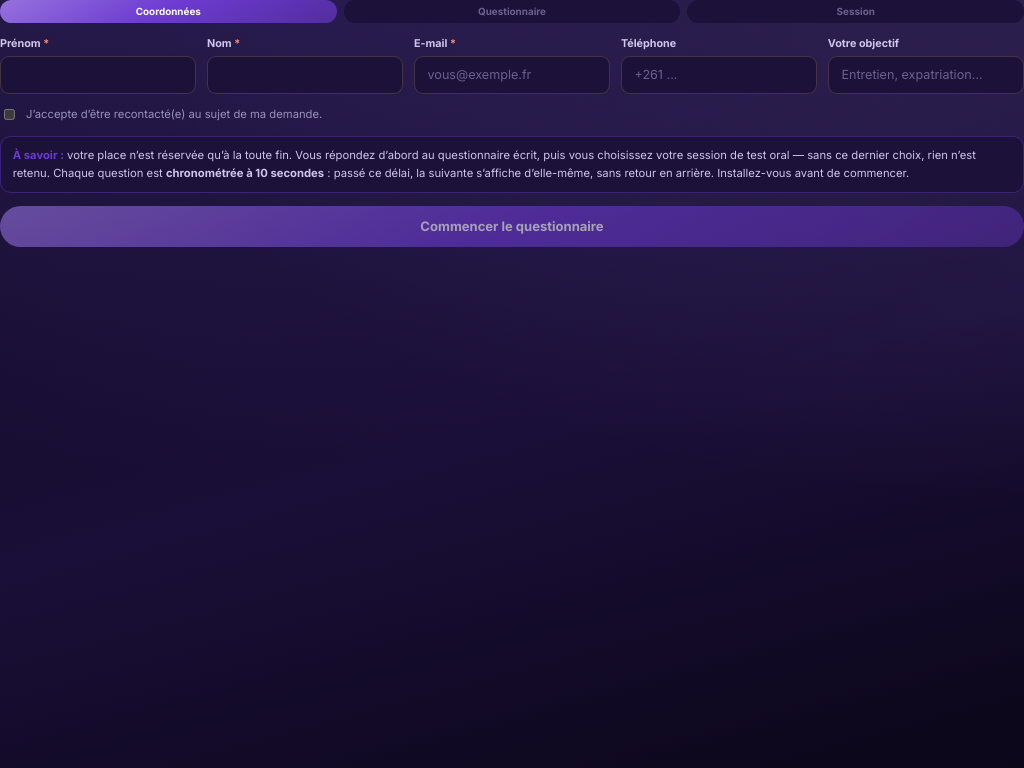
Test de positionnement — questionnaire introuvable › démarre normalement dès qu’il y a des énoncés
Check: the text "Coordonnées" is shown, box [0,0,336,23]
Type "Tiana" into the field labelled "Prénom *". click: x=98, y=75
box: [0,56,196,94]
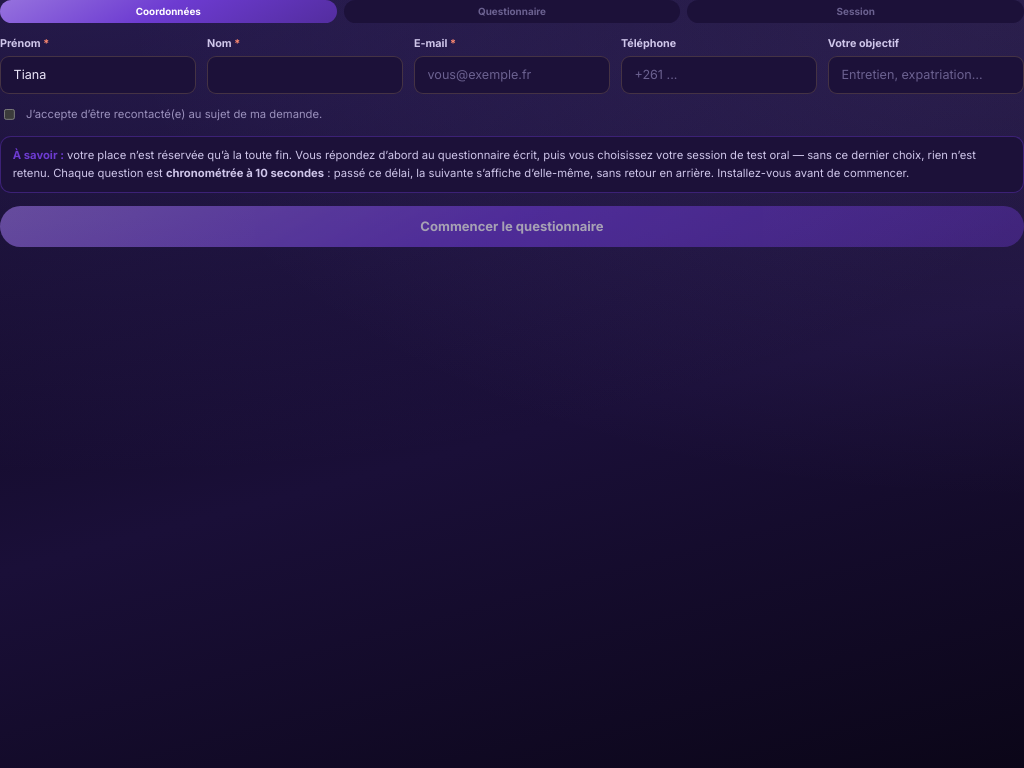
Type "Rakoto" into the field labelled "Nom *". click: x=305, y=75
box: [207,56,403,94]
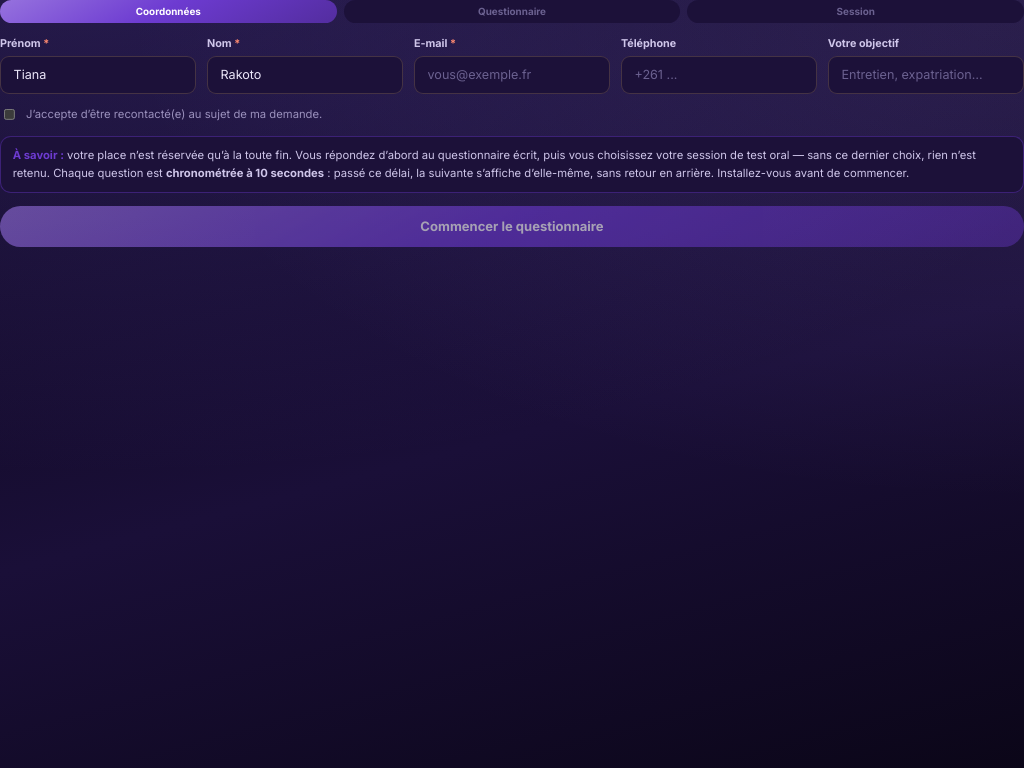
Type "tiana@exemple.mg" into the field labelled "E-mail *". click: x=512, y=75
box: [414,56,610,94]
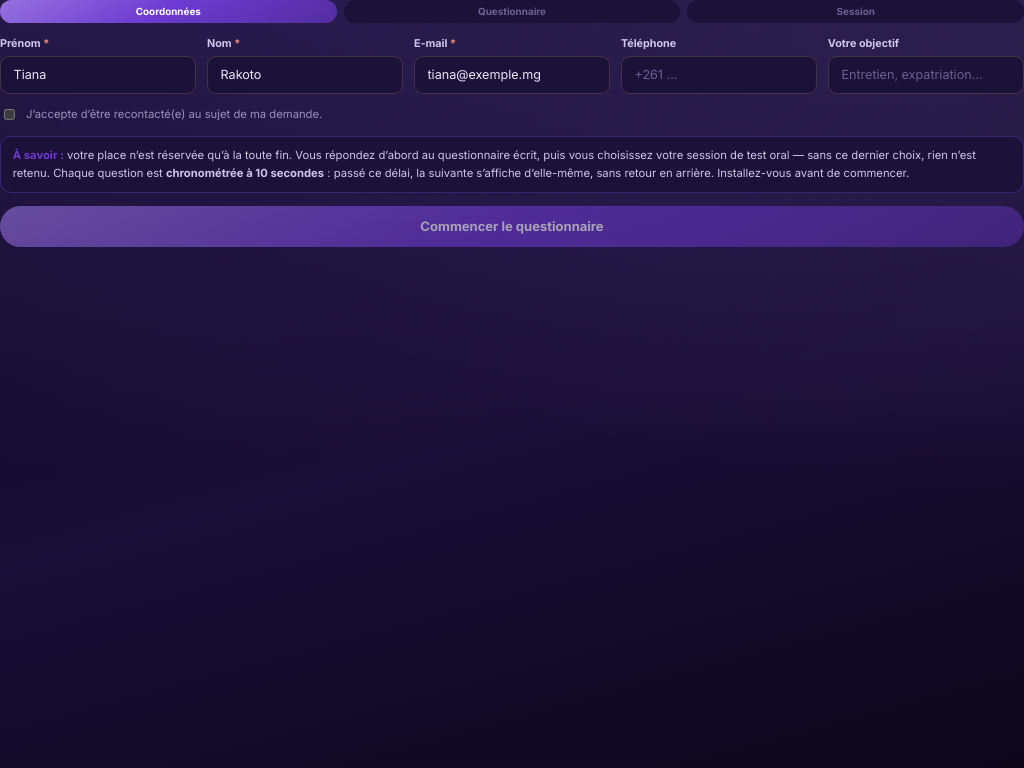
Click the checkbox. click: x=9, y=114
box: [4,108,15,120]
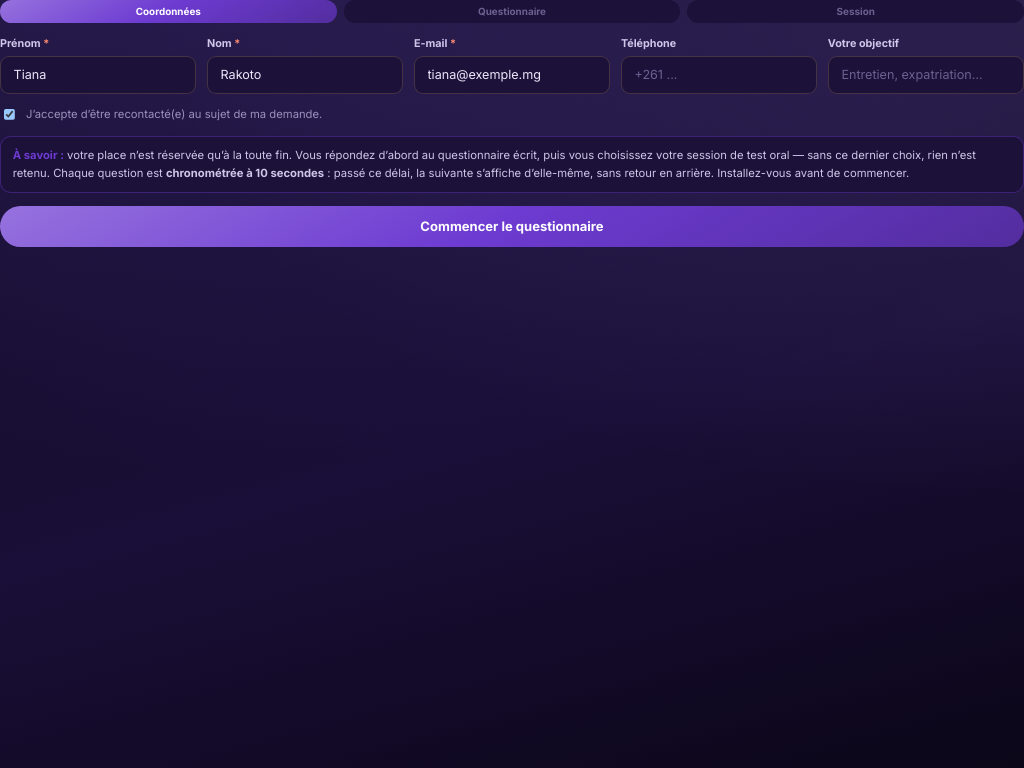
Click the button "Commencer le questionnaire". click: x=512, y=226
box: [0,206,1023,247]
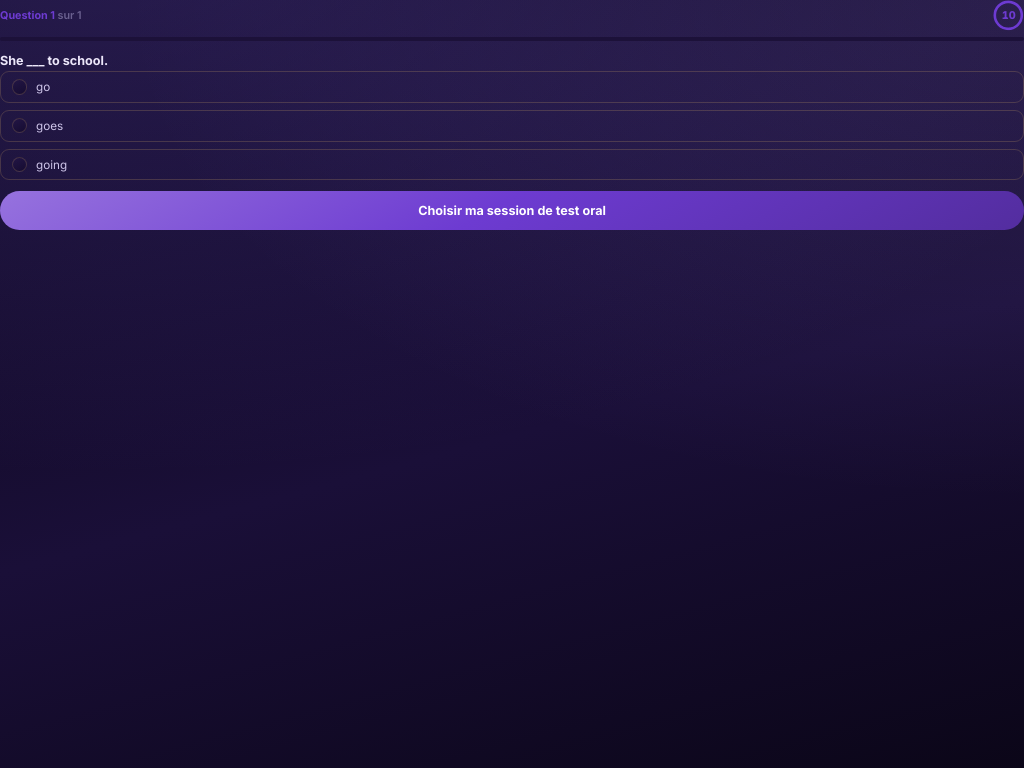
Check: the text "Question 1 sur 1" is shown, box [0,9,82,22]
